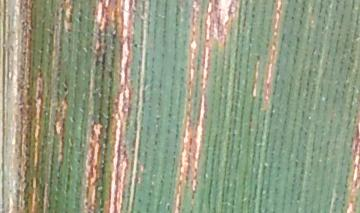tarspot: (62, 80, 69, 96), (132, 39, 140, 51)
